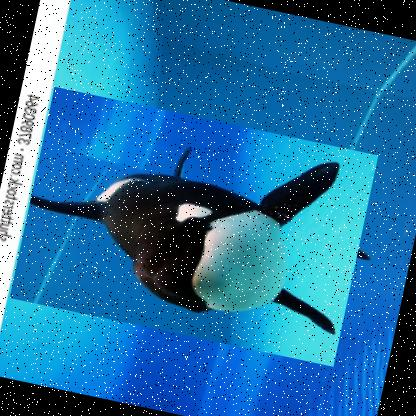killer_whale: (8, 84, 378, 366)
